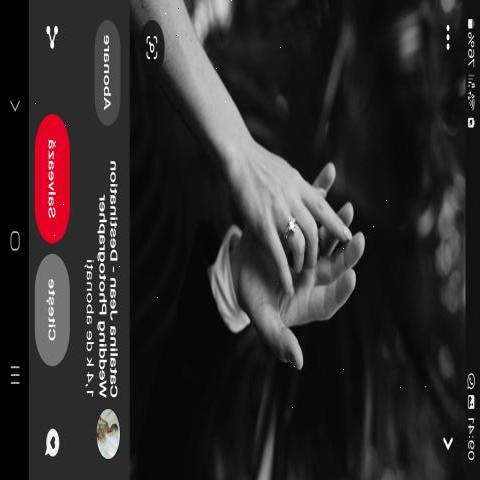Hands: (213, 155, 387, 404), (195, 121, 352, 302)
